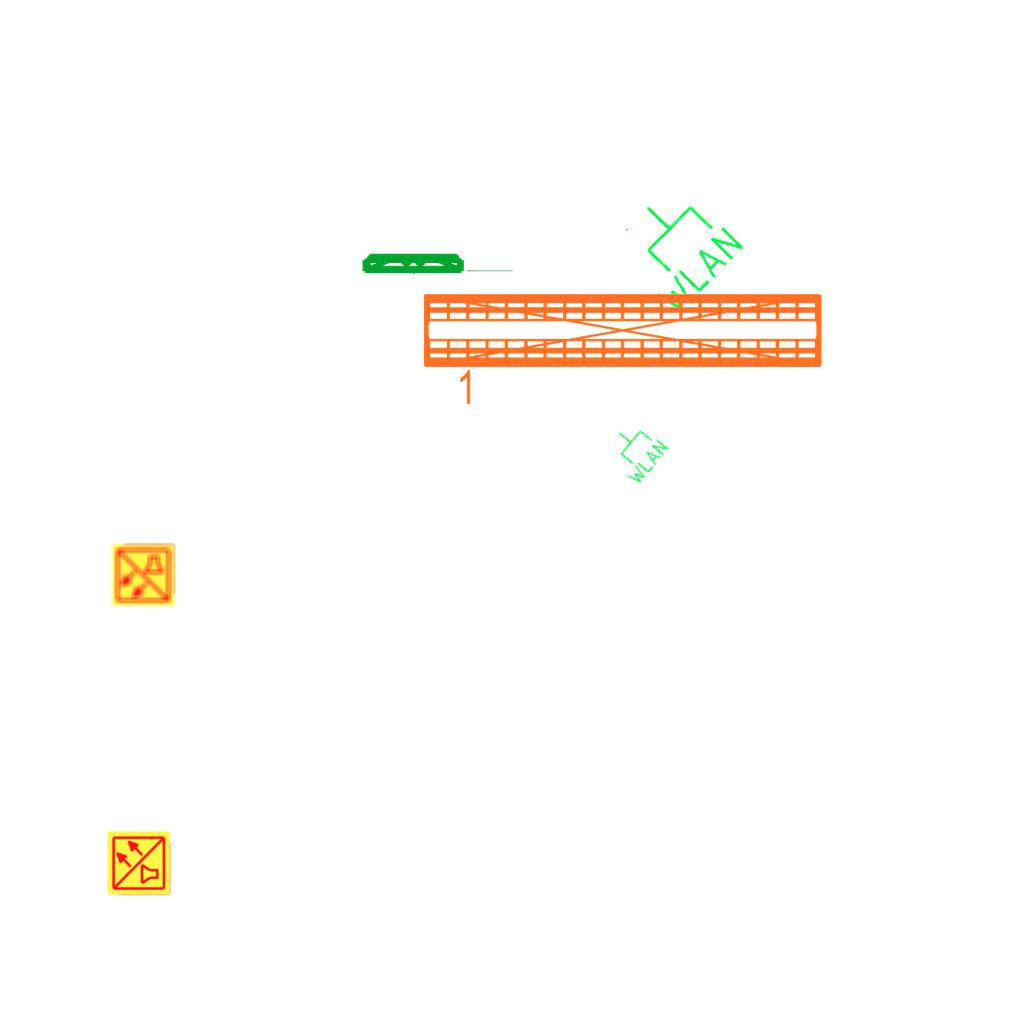Buero_Pendelleuchten_LED: (417, 284, 830, 414)
OKW_Multisensormelder_(Kombination_optischer_Rauch-Kahlenmonoxid_Waerme-Melder): (106, 830, 172, 896), (110, 542, 176, 608)
Sicherheitsleuchte_Wandeinbau: (359, 250, 518, 275)
WLAN: (602, 174, 750, 323), (598, 415, 672, 489)
